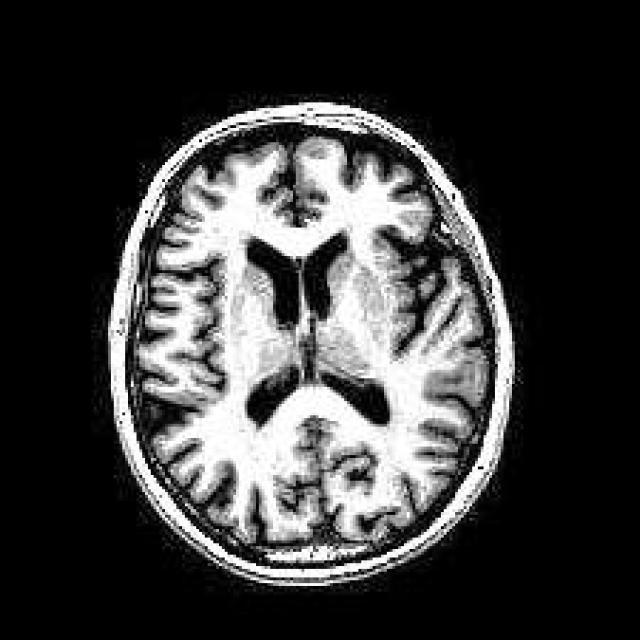notumor: (111, 105, 518, 592)
